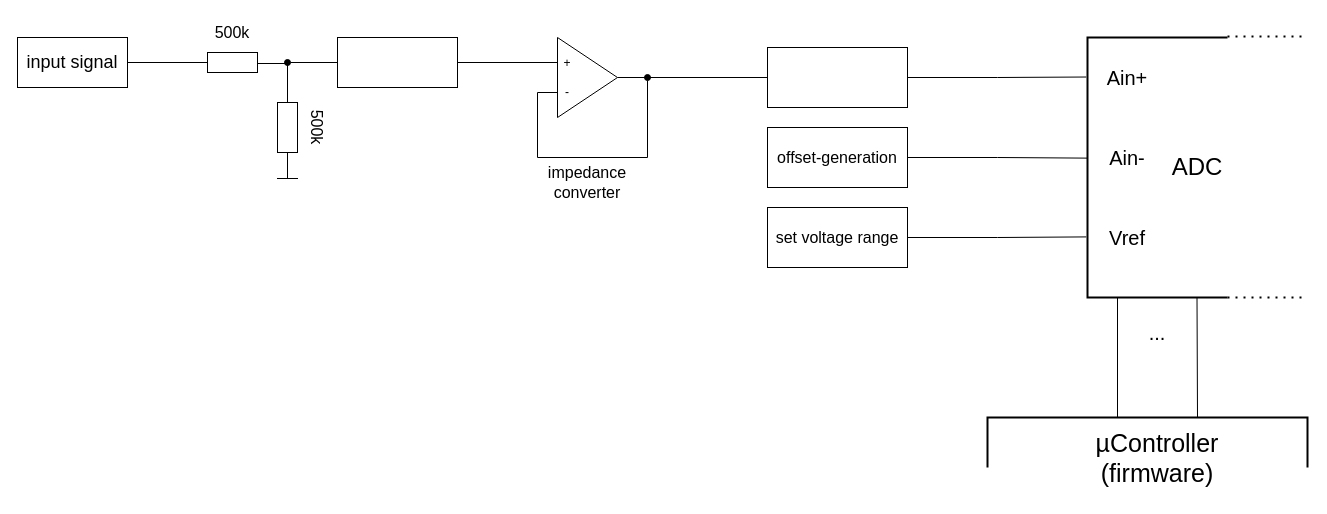
Some shapes in this 1327 by 514 pixel diagram are drawn without their labels. Here are the shapes that lost their labels. From the top down, the box of each, then its label:
(336, 36, 458, 88): coupling
(766, 46, 908, 108): anti-aliasing-filter
